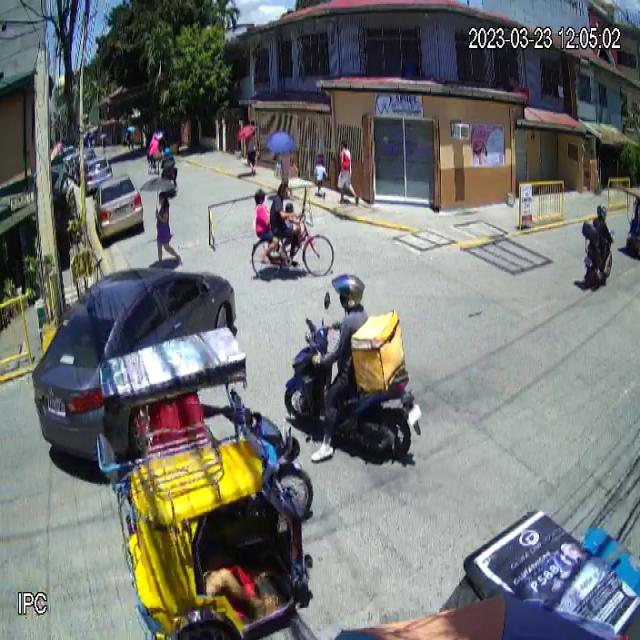Motorcycle: (284, 291, 422, 464)
Tricycle: (94, 325, 314, 640)
